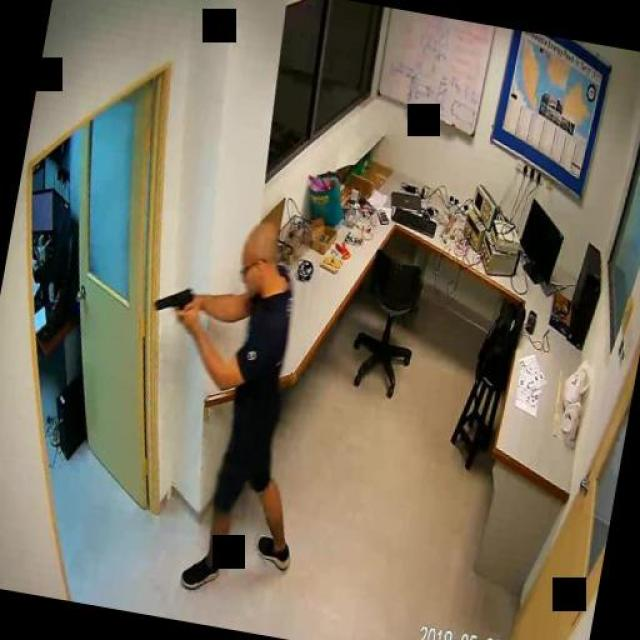gun: (148, 278, 208, 332)
